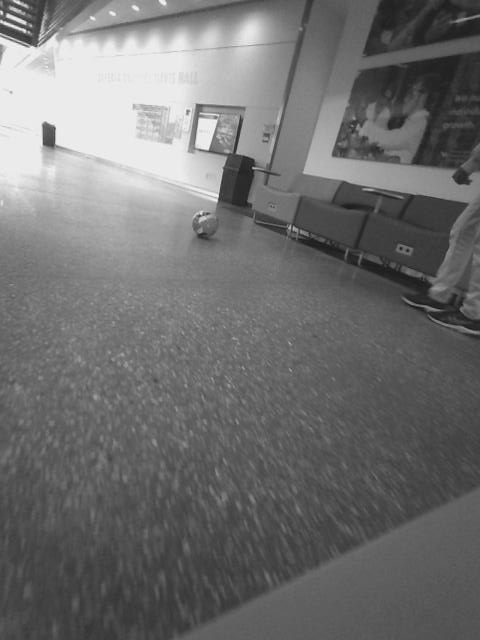ball: (189, 207, 223, 242)
